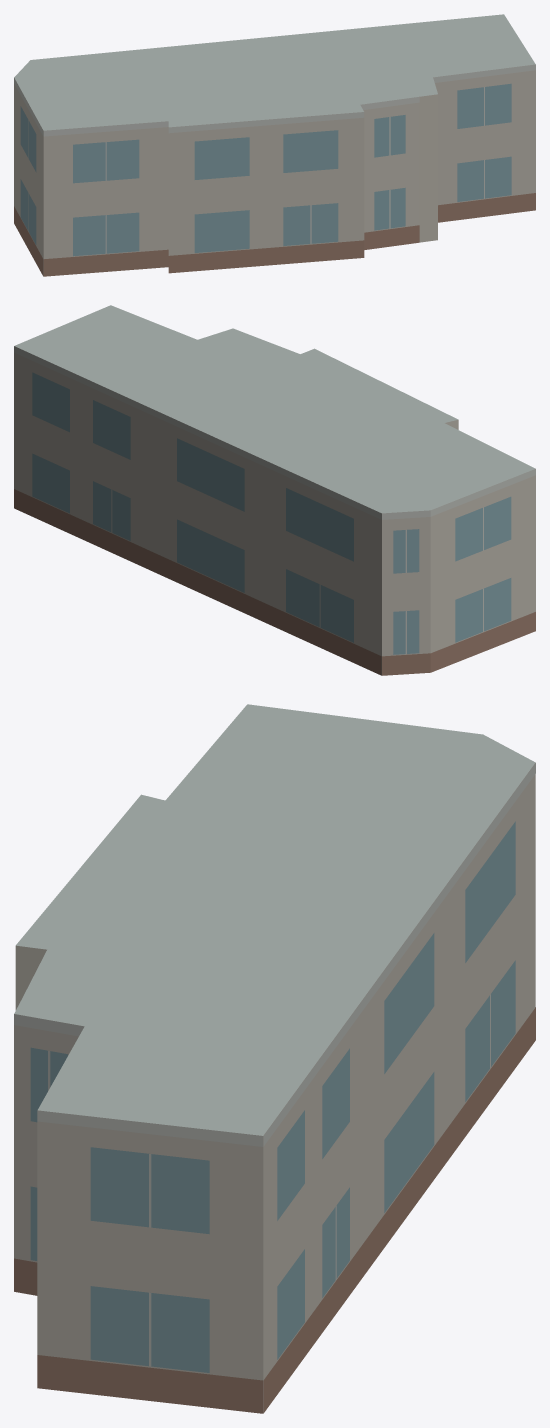
The model's file is survey-upis-32676198.glb.
3 views of the same model, one above another, from view 1: azimuth 30°, elevation 25°; view 2: azimuth 150°, elevation 25°; view 3: azimuth 270°, elevation 25° (orthographic). The views are drawn at different scales.
Parts seen in each view (by area): view 1: survey-upis-32676198.tmp; view 2: survey-upis-32676198.tmp; view 3: survey-upis-32676198.tmp.
Part boxes in pixels (x1,y1,x2,y2): survey-upis-32676198.tmp: (14,14,535,276); survey-upis-32676198.tmp: (14,305,535,675); survey-upis-32676198.tmp: (14,704,535,1413).
Size of the model in its own units: 20.35 by 6.1 by 10.39.
